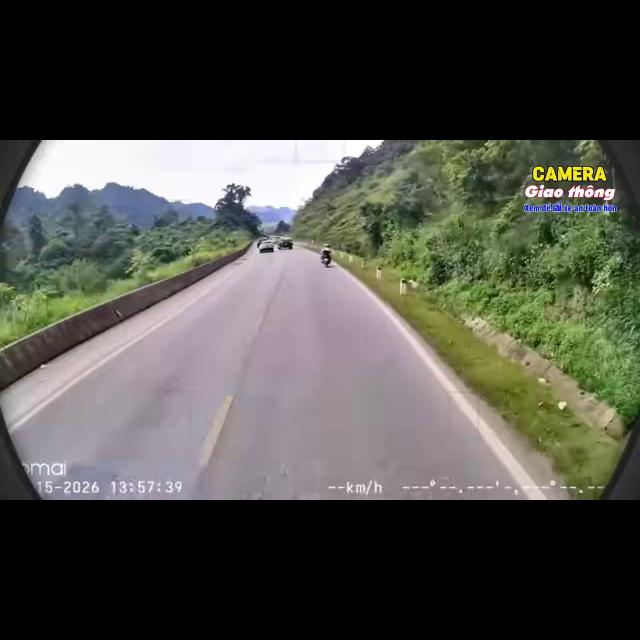car: (259, 240, 274, 252), (278, 237, 292, 249), (257, 237, 266, 247)
motorcycle: (321, 253, 331, 267)
